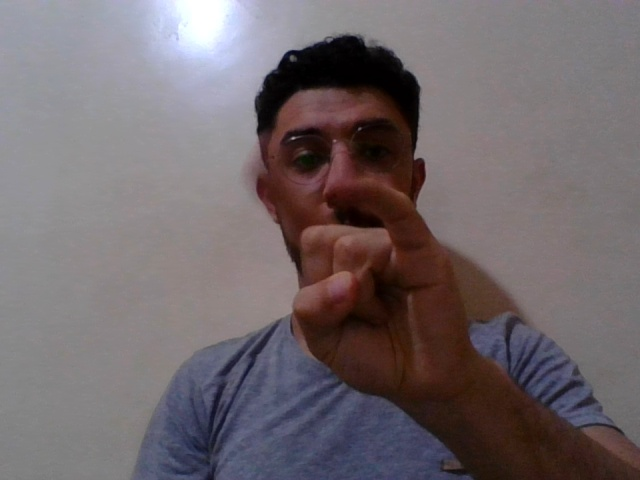I love You: (242, 148, 490, 409)
